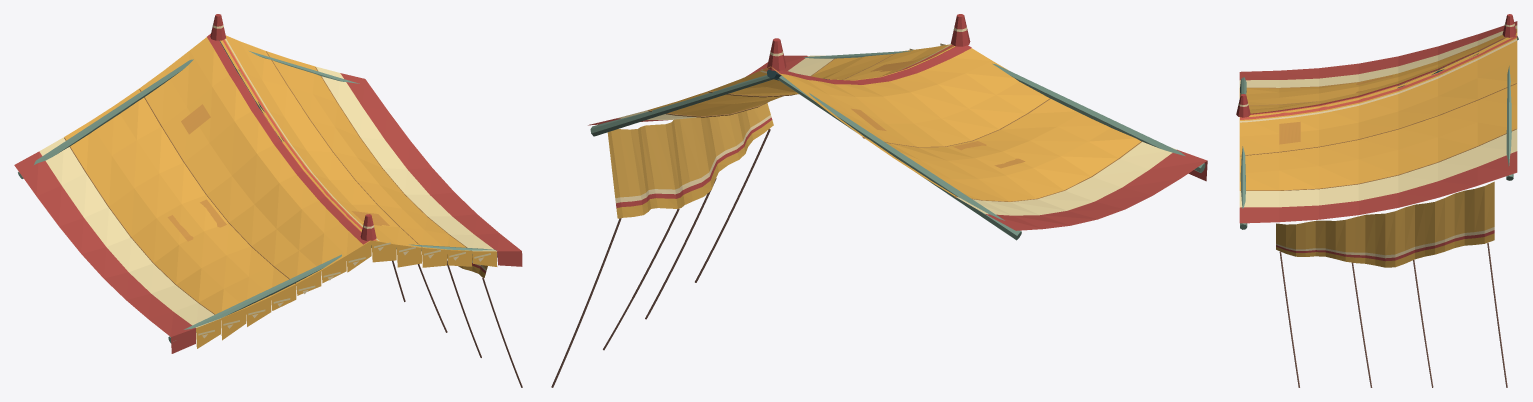
The model's file is RidgeCanvas.glb.
The picture shows the model from 3 angles, left to right: view 1: azimuth 30°, elevation 25°; view 2: azimuth 150°, elevation 25°; view 3: azimuth 270°, elevation 25°; orthographic projection. The views are drawn at different scales.
Parts seen in each view (by area): view 1: RidgeCanvas; view 2: RidgeCanvas; view 3: RidgeCanvas.
Part boxes in pixels (x1,y1,x2,y2): RidgeCanvas: (14,14,522,387); RidgeCanvas: (551,14,1207,387); RidgeCanvas: (1236,14,1518,387).
Size of the model in its own units: 6.19 by 5.07 by 4.44.
